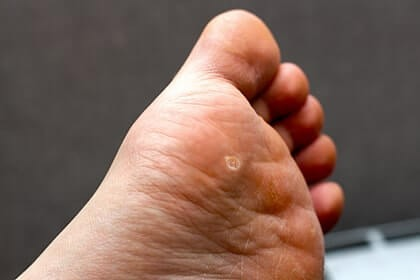Warts: (219, 147, 249, 183)
